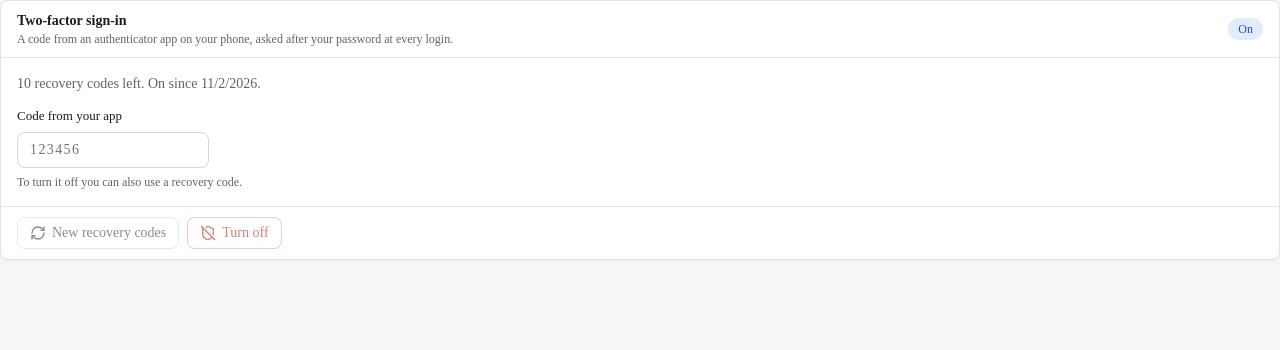
Profile > Security: two-factor sign-in › when on: turning off and new recovery codes both need a code
Check: the text "10 recovery codes left. On since 11/2/2026." is shown, box x1=17 y1=76 x2=261 y2=91
Type "654321" into the field labelled "Code from your app" at point(113, 150), box x1=17 y1=132 x2=209 y2=168
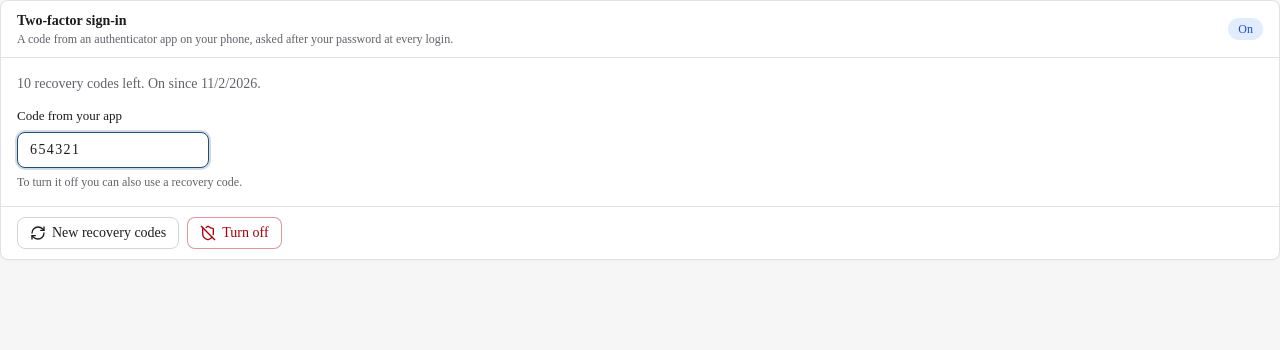
Click the button "New recovery codes" at point(98, 232), box x1=17 y1=216 x2=179 y2=248
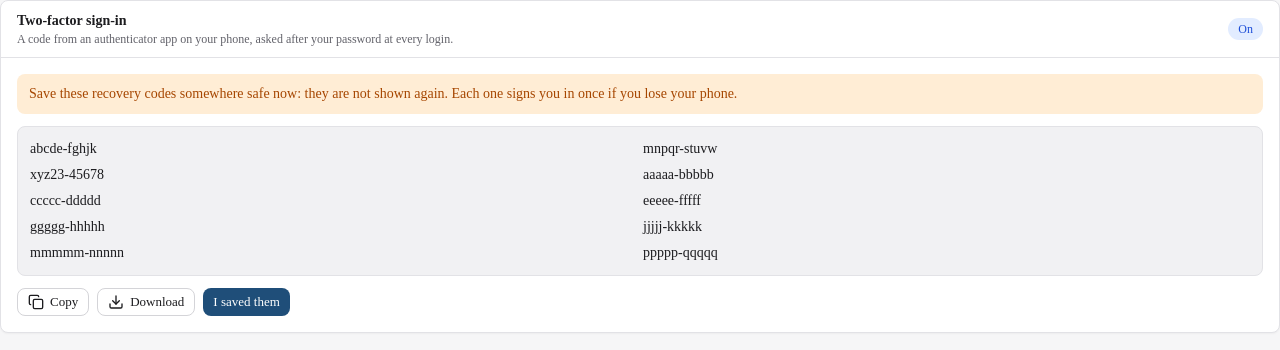
Click the button "I saved them" at point(246, 302), box x1=203 y1=288 x2=290 y2=316
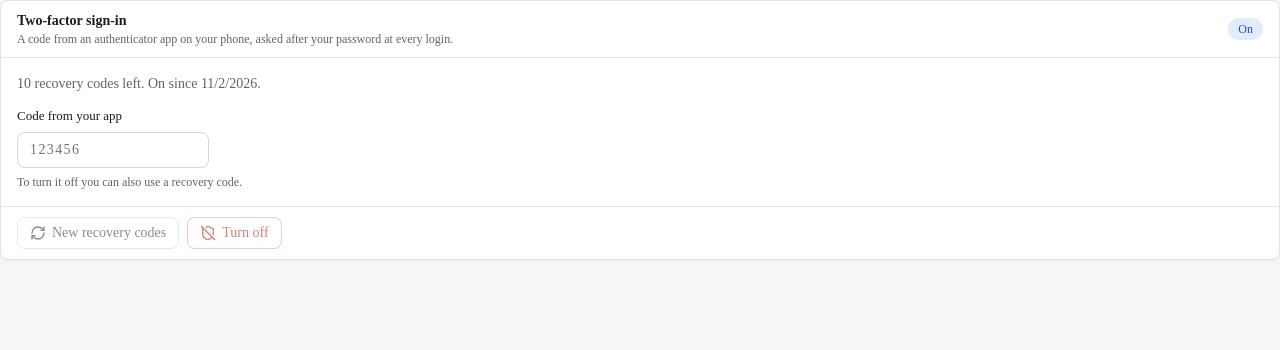
Type "abcde-fghjk" into the field labelled "Code from your app" at point(113, 150), box x1=17 y1=132 x2=209 y2=168
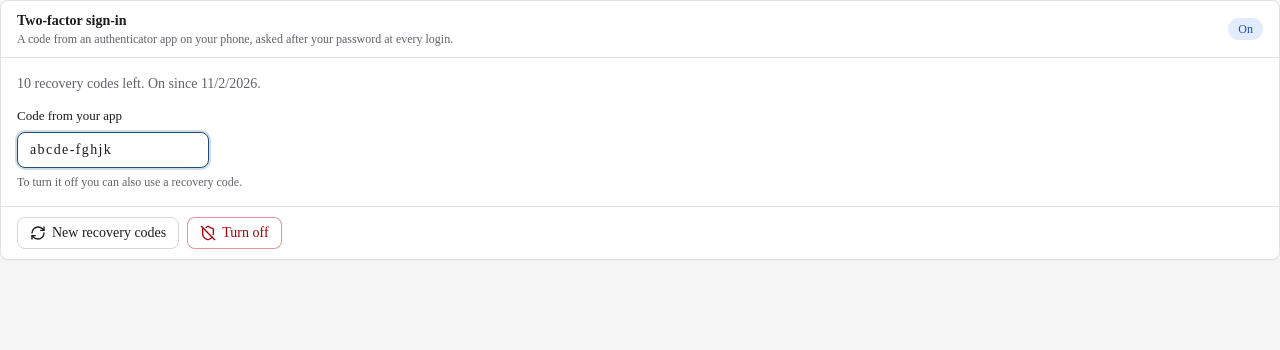
Click the button "Turn off" at point(234, 232), box x1=187 y1=216 x2=282 y2=248
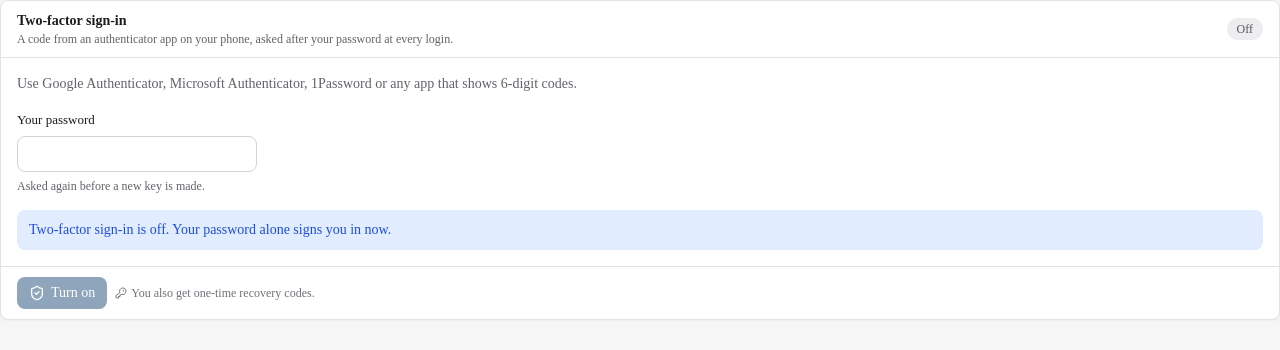
Check: the text "Two-factor sign-in is off. Your password alone signs you in now." is shown, box x1=17 y1=210 x2=1263 y2=250
